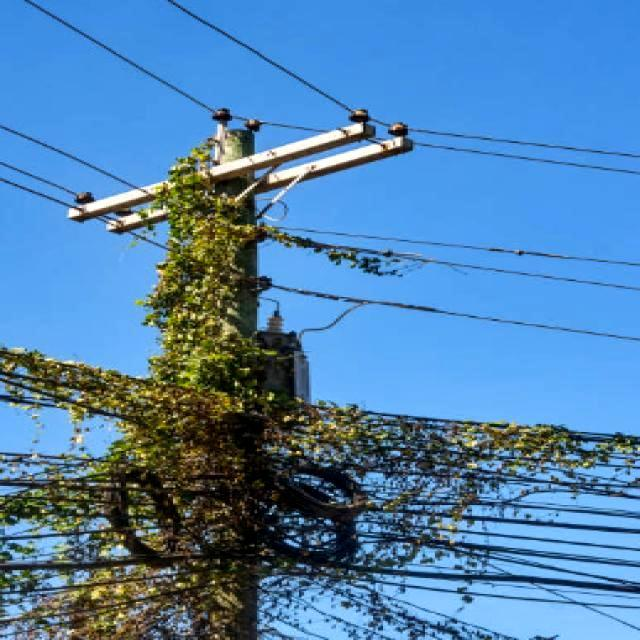light_pole: (39, 100, 410, 626)
